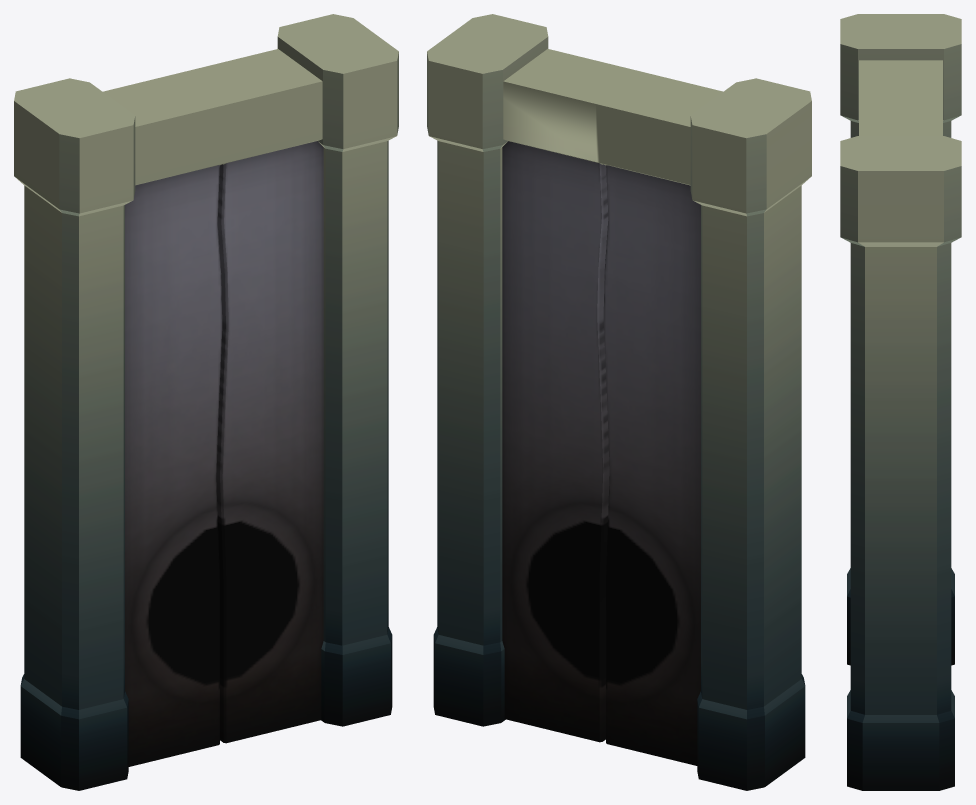
File: door.fbx
3 views of the same model, side by side, from view 1: azimuth 30°, elevation 25°; view 2: azimuth 150°, elevation 25°; view 3: azimuth 270°, elevation 25° (orthographic). The views are drawn at different scales.
Visible parts, largest first — view 1: polySurface6, polySurface5, polySurface3; view 2: polySurface6, polySurface5, polySurface3; view 3: polySurface6.
Part boxes in pixels (<box>): polySurface6: <box>14,14,398,790</box>; polySurface5: <box>216,141,323,743</box>; polySurface3: <box>125,165,222,766</box>; polySurface6: <box>427,14,811,790</box>; polySurface5: <box>502,141,609,742</box>; polySurface3: <box>603,165,700,765</box>; polySurface6: <box>840,14,961,790</box>.
Bounding box in the file's own units: 5.2 × 9.6 × 1.7.
